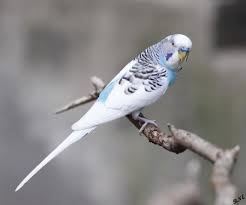budgie: (10, 32, 195, 194)
